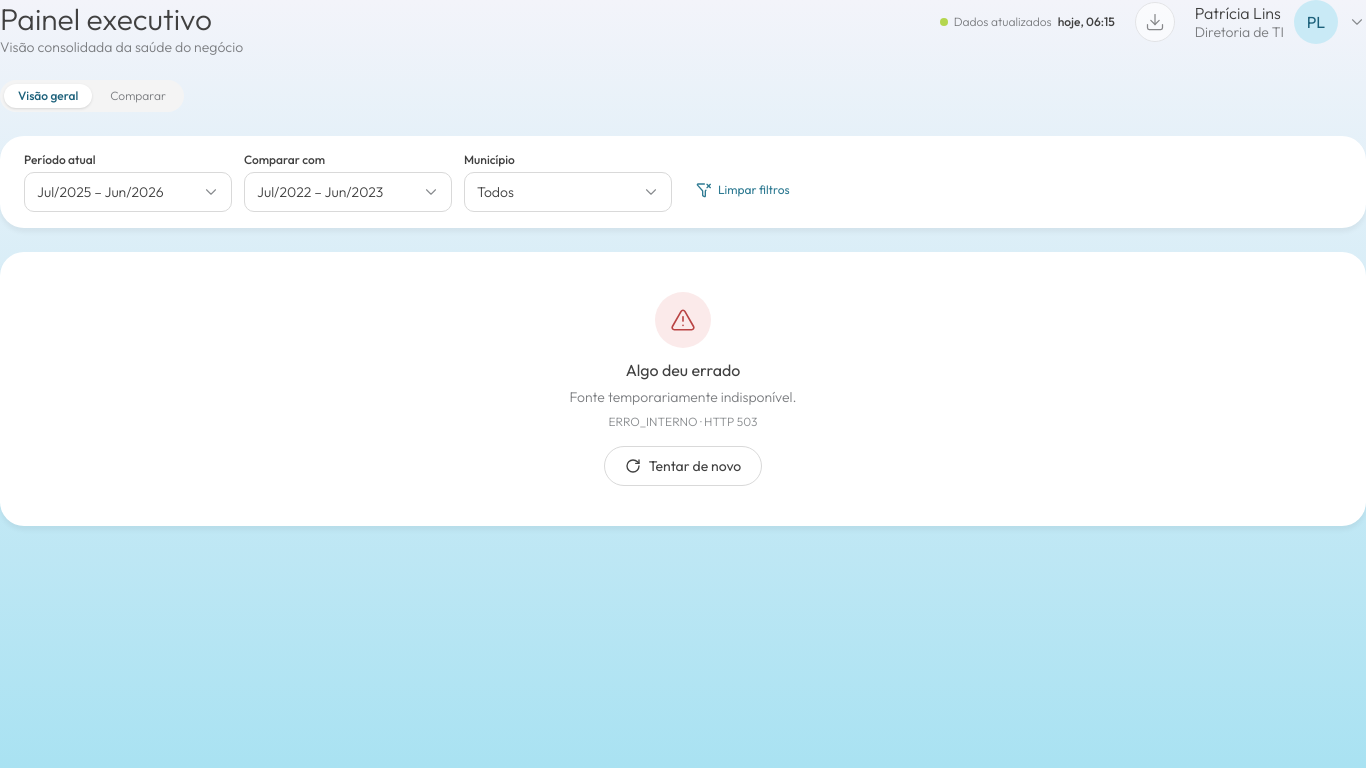
Test case: Tela 1 — Painel executivo › mostra erro e refaz a consulta ao tentar de novo
This screenshot has width=1366, height=768.
Expected: the message is shown, [0,252,1365,526]
Expected: the text "Fonte temporariamente indisponível." is shown, [570,388,797,406]
Click the button "Tentar de novo".
click(683, 466)  # box [604,446,762,486]
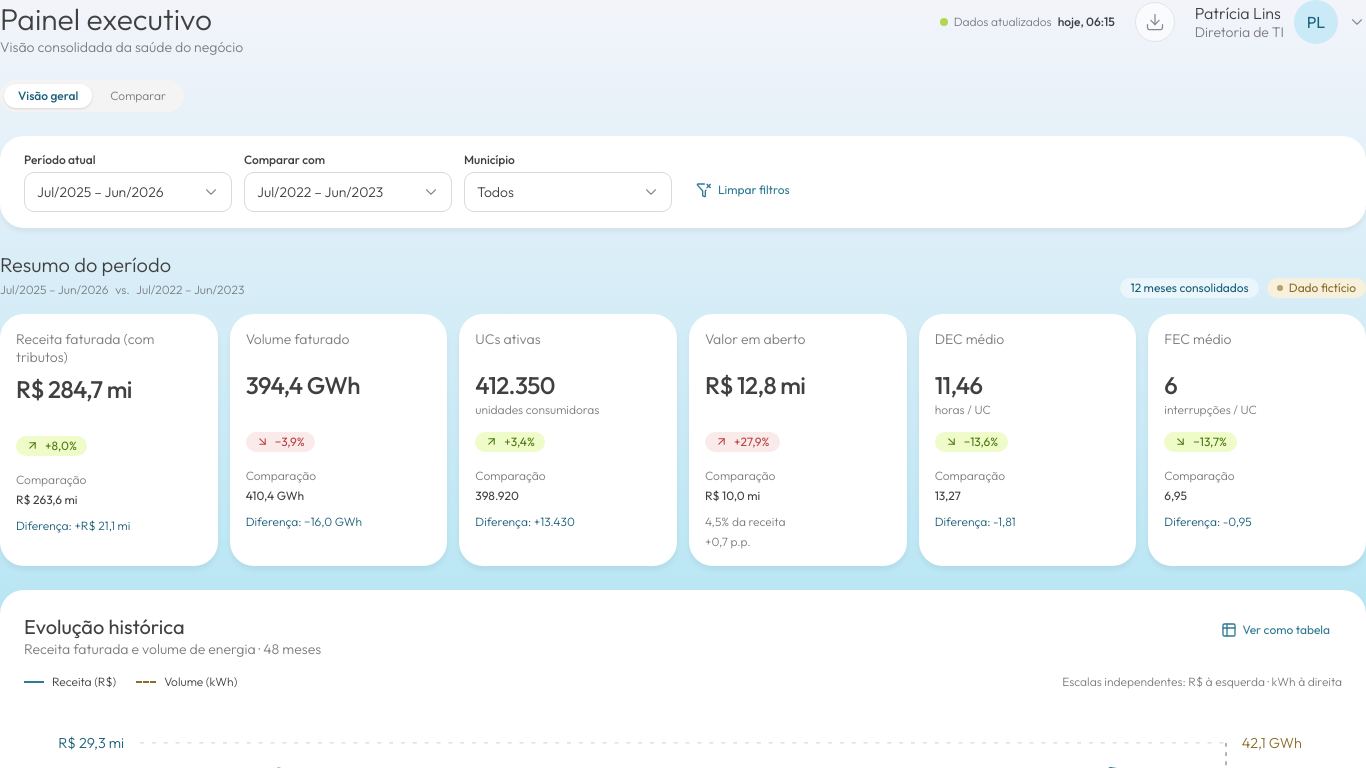
Now the element named "Seis indicadores executivos" is shown, box [0,314,1365,566]
